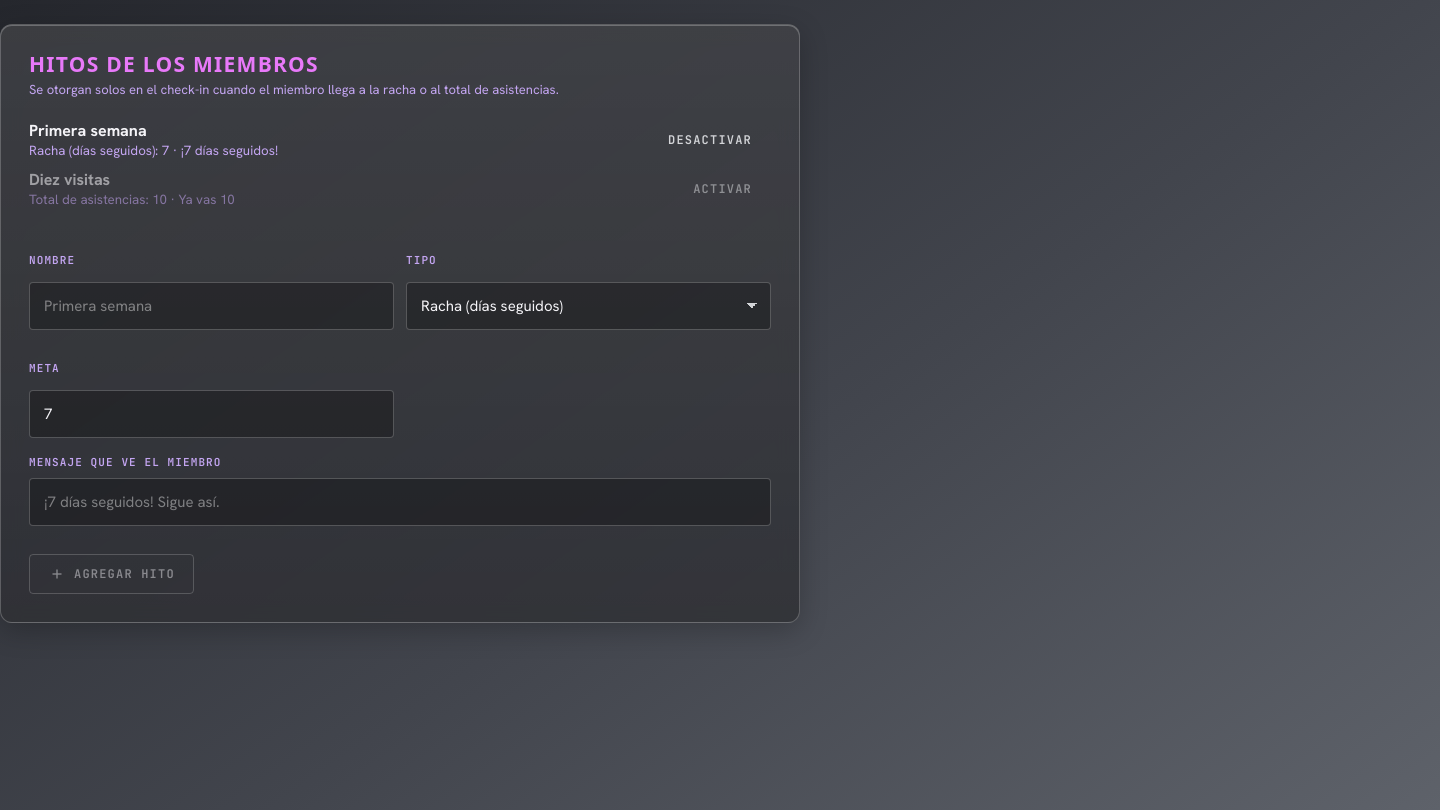
Test: HitosConfig: la lista › should show the API error when the state cannot be changed
The width and height of the screenshot is (1440, 810).
Expected: the text "Diez visitas" is shown, x1=29 y1=169 x2=110 y2=190
Click the button "Activar" at (723, 189), box x1=674 y1=170 x2=771 y2=208
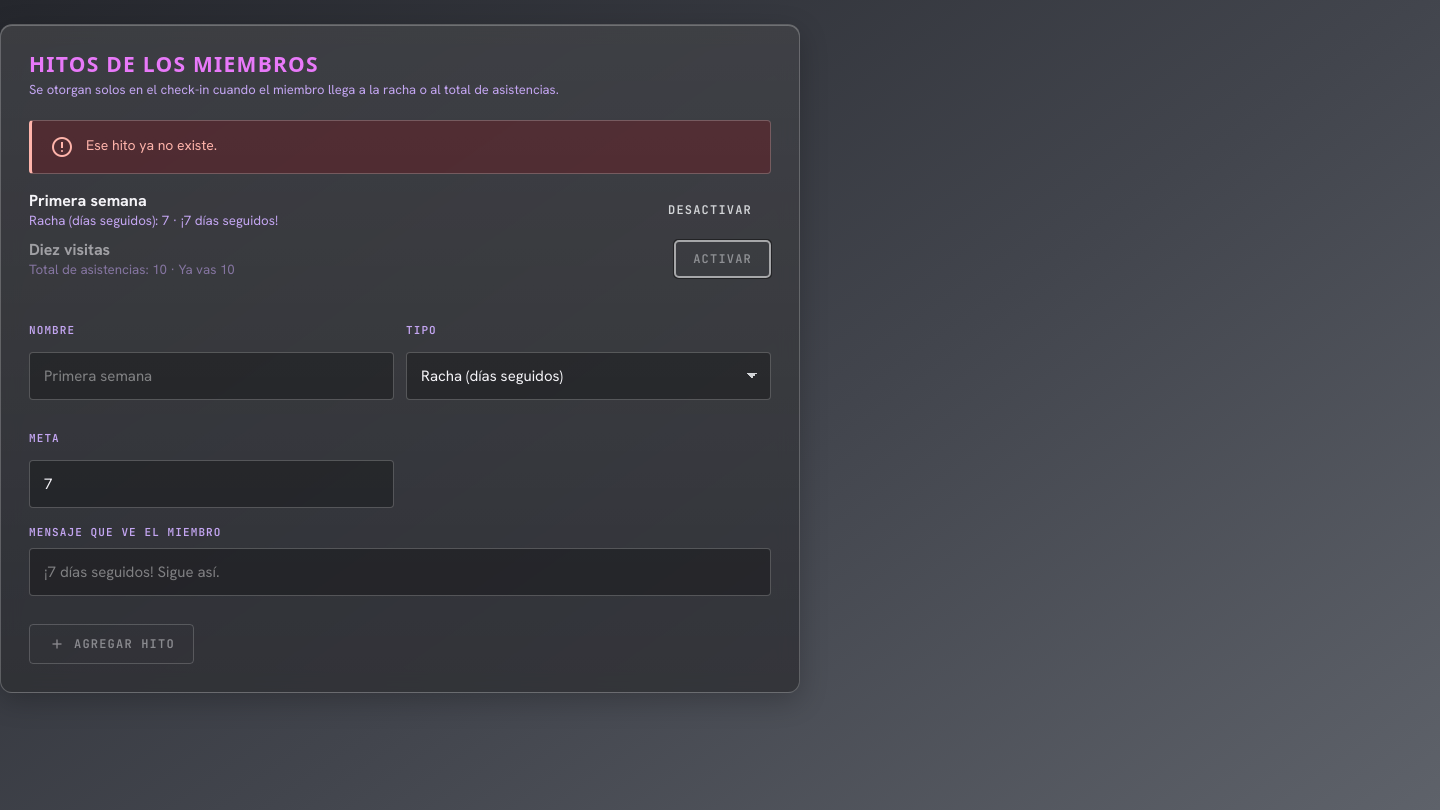
Result: the message reads "Ese hito ya no existe." at x1=86 y1=136 x2=217 y2=154
